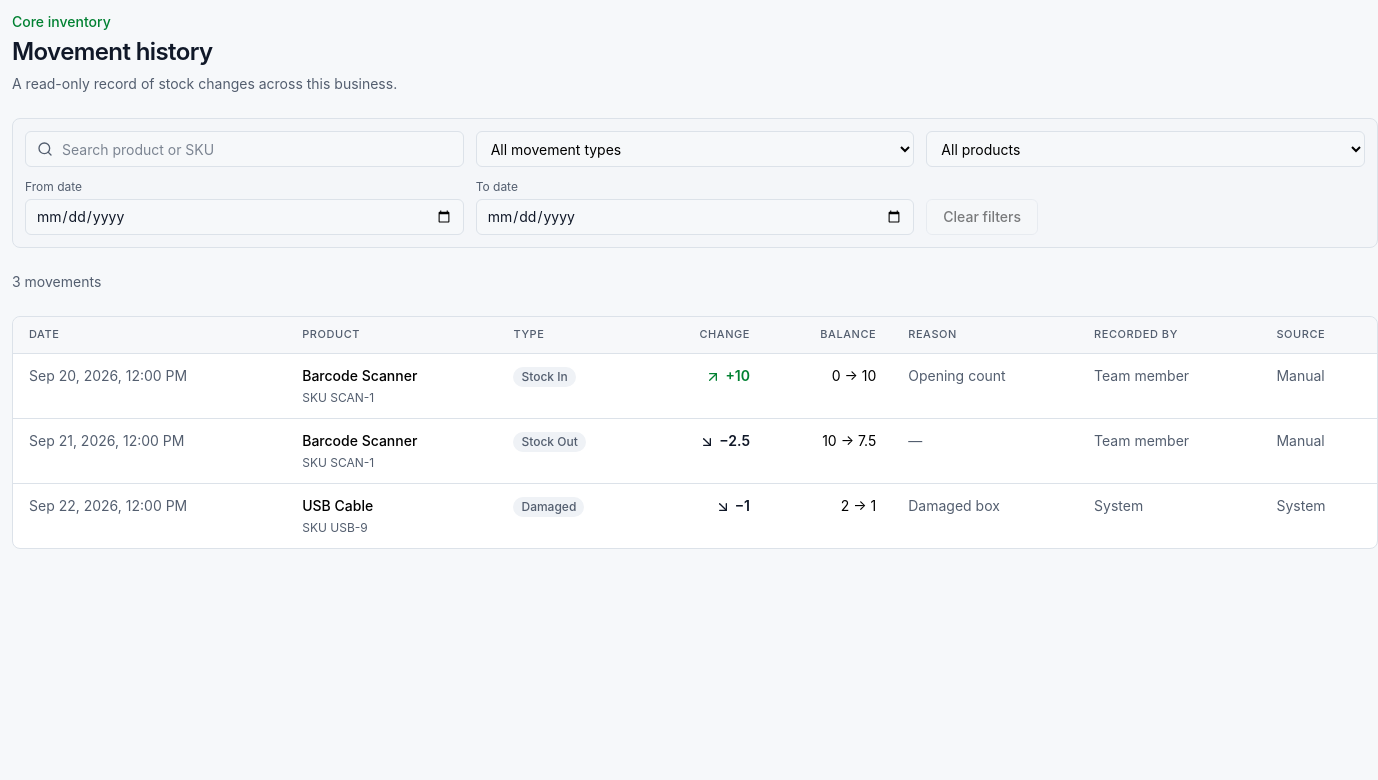
Test: InventoryMovementsPage › applies product, movement type, and text filters
Select "Damaged" in the 1st dropdown named "filter by movement type". click: (695, 149)
box: [476,131,914,167]
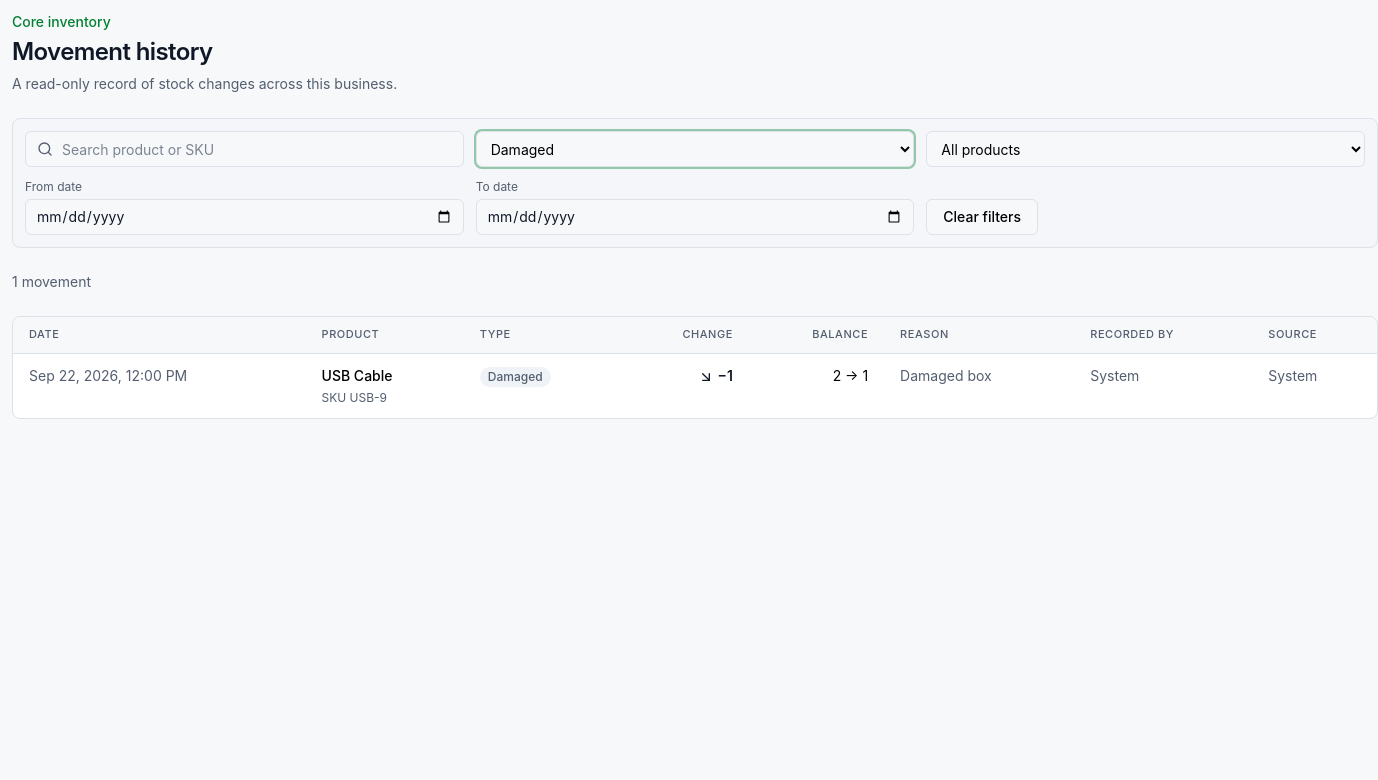
Expected: no links "Barcode Scanner" are shown
Select "USB Cable · USB-9" in the 2nd dropdown named "filter by product". click: (1146, 149)
box: [926,131,1365,167]
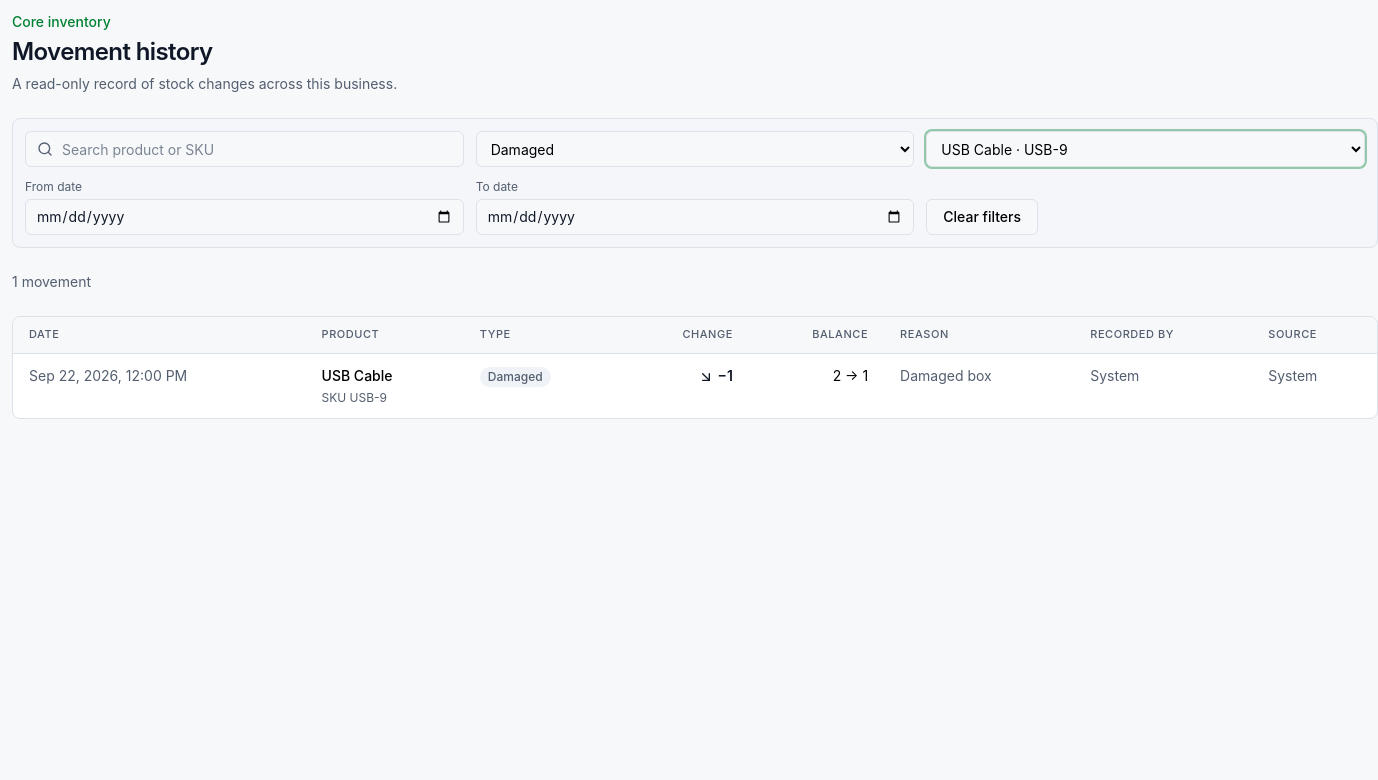
Expected: the link "USB Cable" is shown, [322,367,392,384]
Type "NO-MATCH" into the search field named "search product name or sku". click: (244, 149)
box: [25,131,464,167]
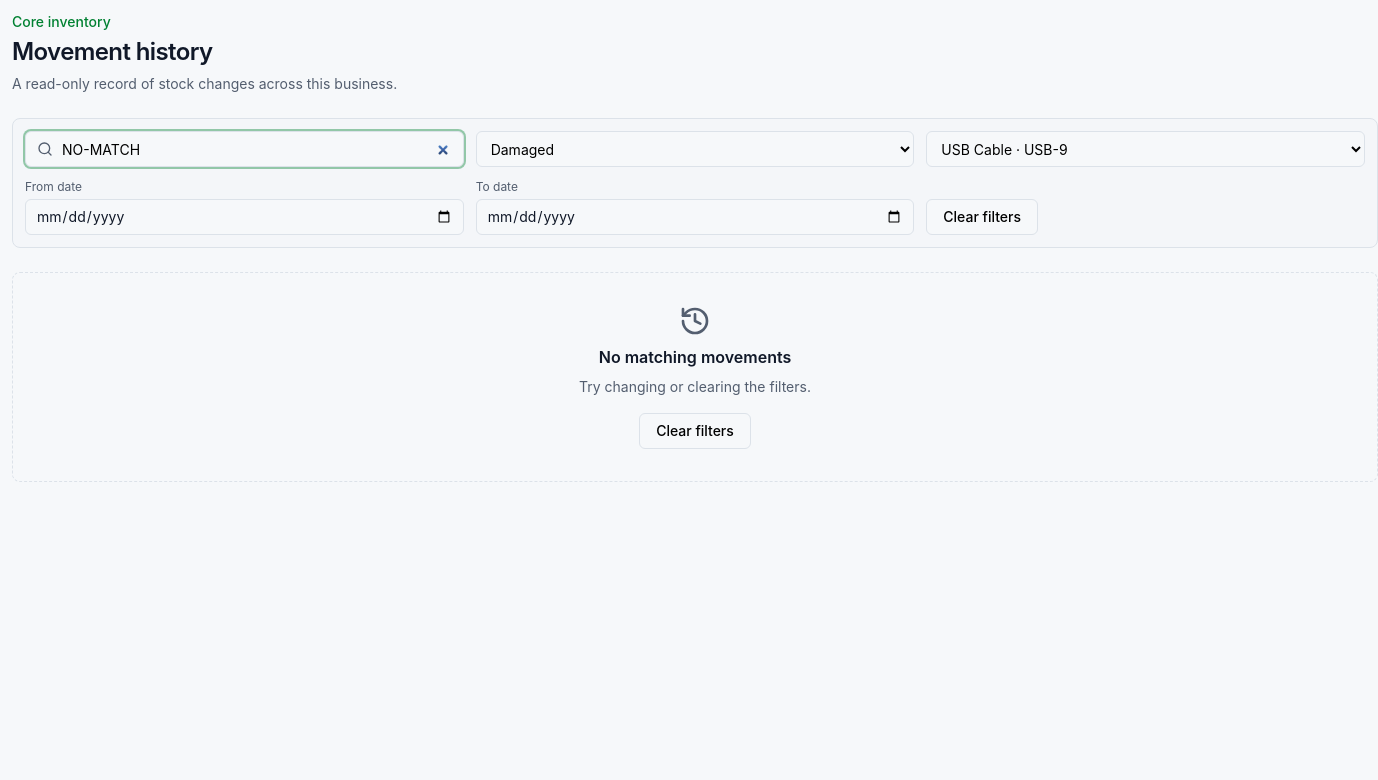
Expected: the heading "No matching movements" is shown, [599,345,791,369]
